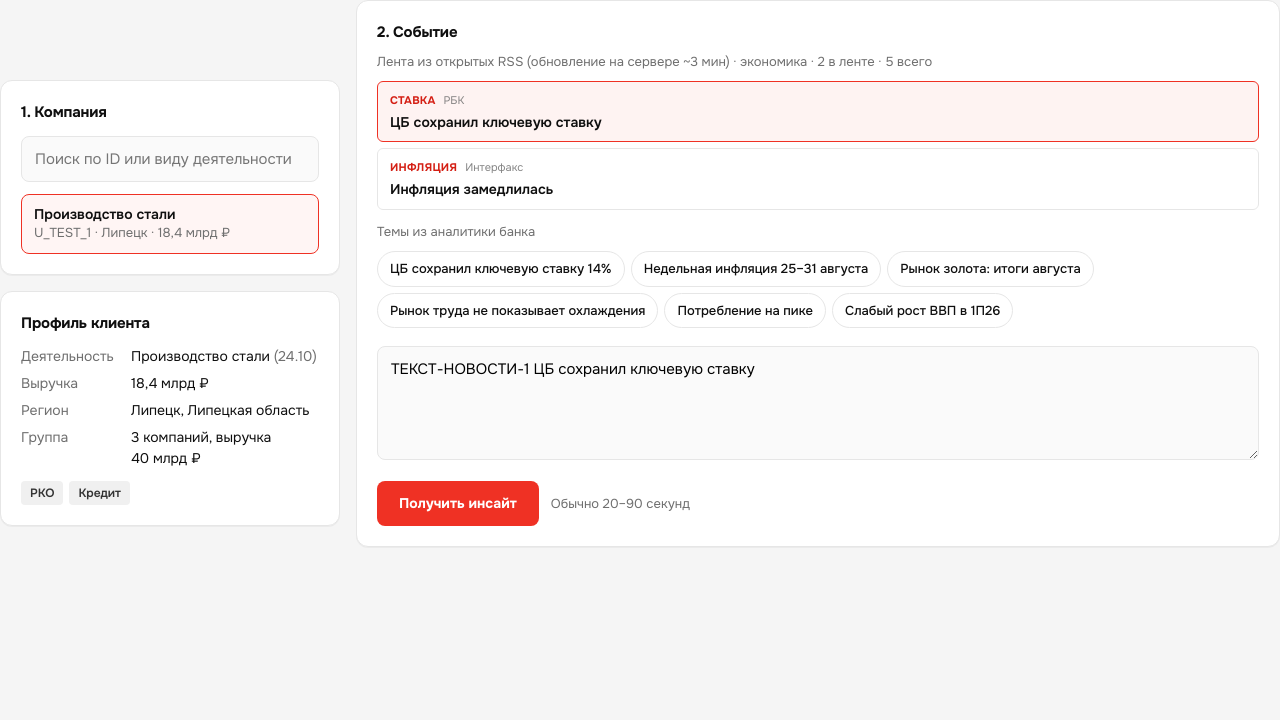
Test: Workspace › shows the error text when the request fails
Expected: the text "Производство стали" is shown, [34,205,176,223]
Step 1. Click the button "Получить инсайт" → [458, 503], box [377,481,539,526]
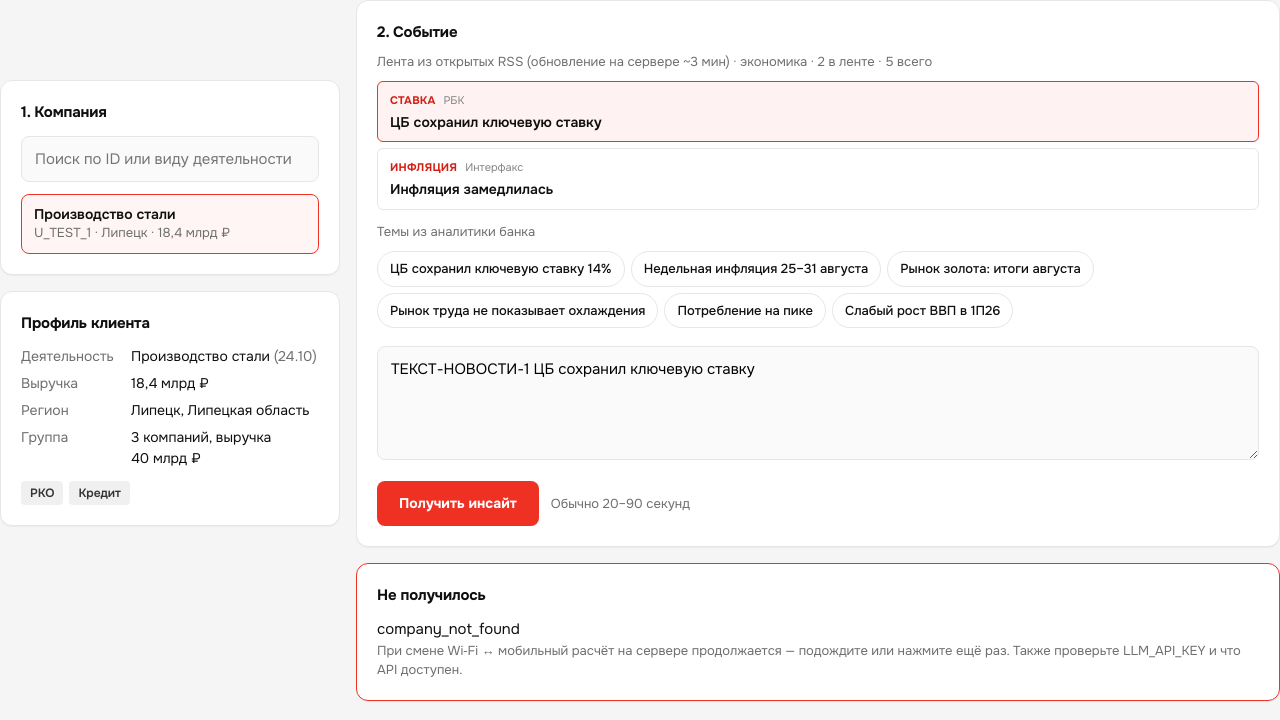
Now the heading "Не получилось" is shown, box [377,585,486,605]
Now the text "company_not_found" is shown, box [377,619,520,639]
